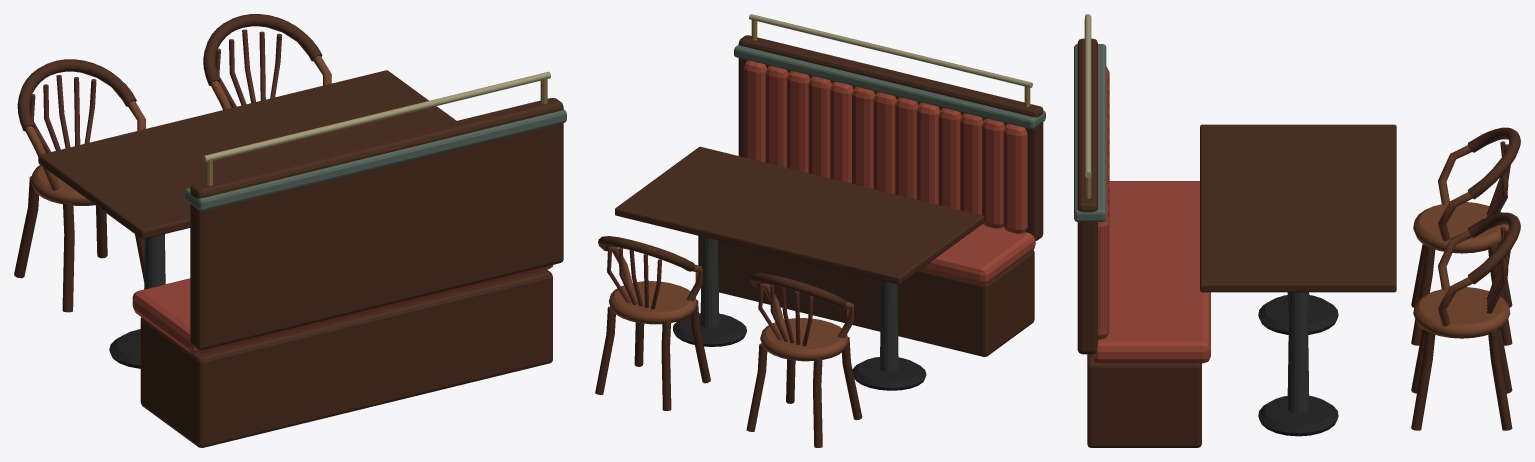
Rendered from seat.glb.
3 views of the same model, side by side, from view 1: azimuth 30°, elevation 25°; view 2: azimuth 150°, elevation 25°; view 3: azimuth 270°, elevation 25° (orthographic). The views are drawn at different scales.
Visible parts, largest first — view 1: FP218_seat; view 2: FP218_seat; view 3: FP218_seat.
Boxes of the visible parts, x1,y1,x2,y2 form: FP218_seat: (14, 14, 566, 447); FP218_seat: (595, 14, 1045, 447); FP218_seat: (1074, 14, 1520, 447).
Size of the model in its own units: 1.57 by 1.19 by 1.75.
